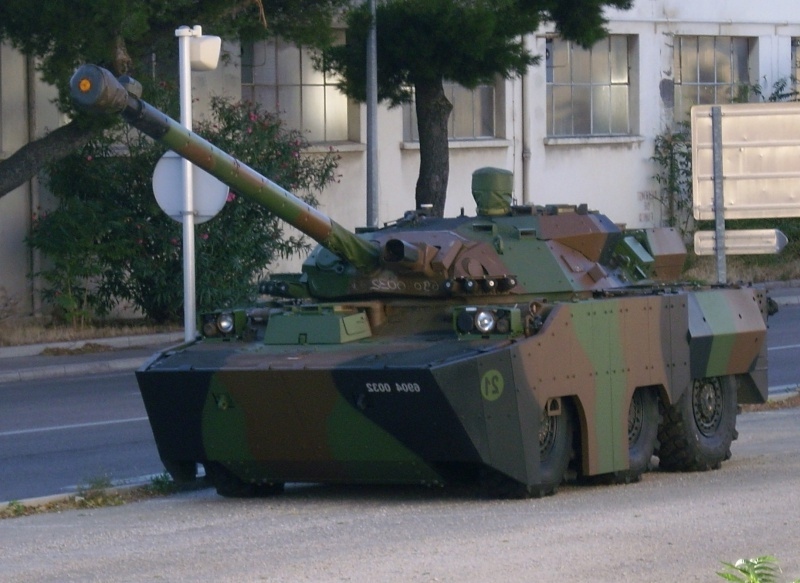license_plate: (363, 378, 425, 397)
